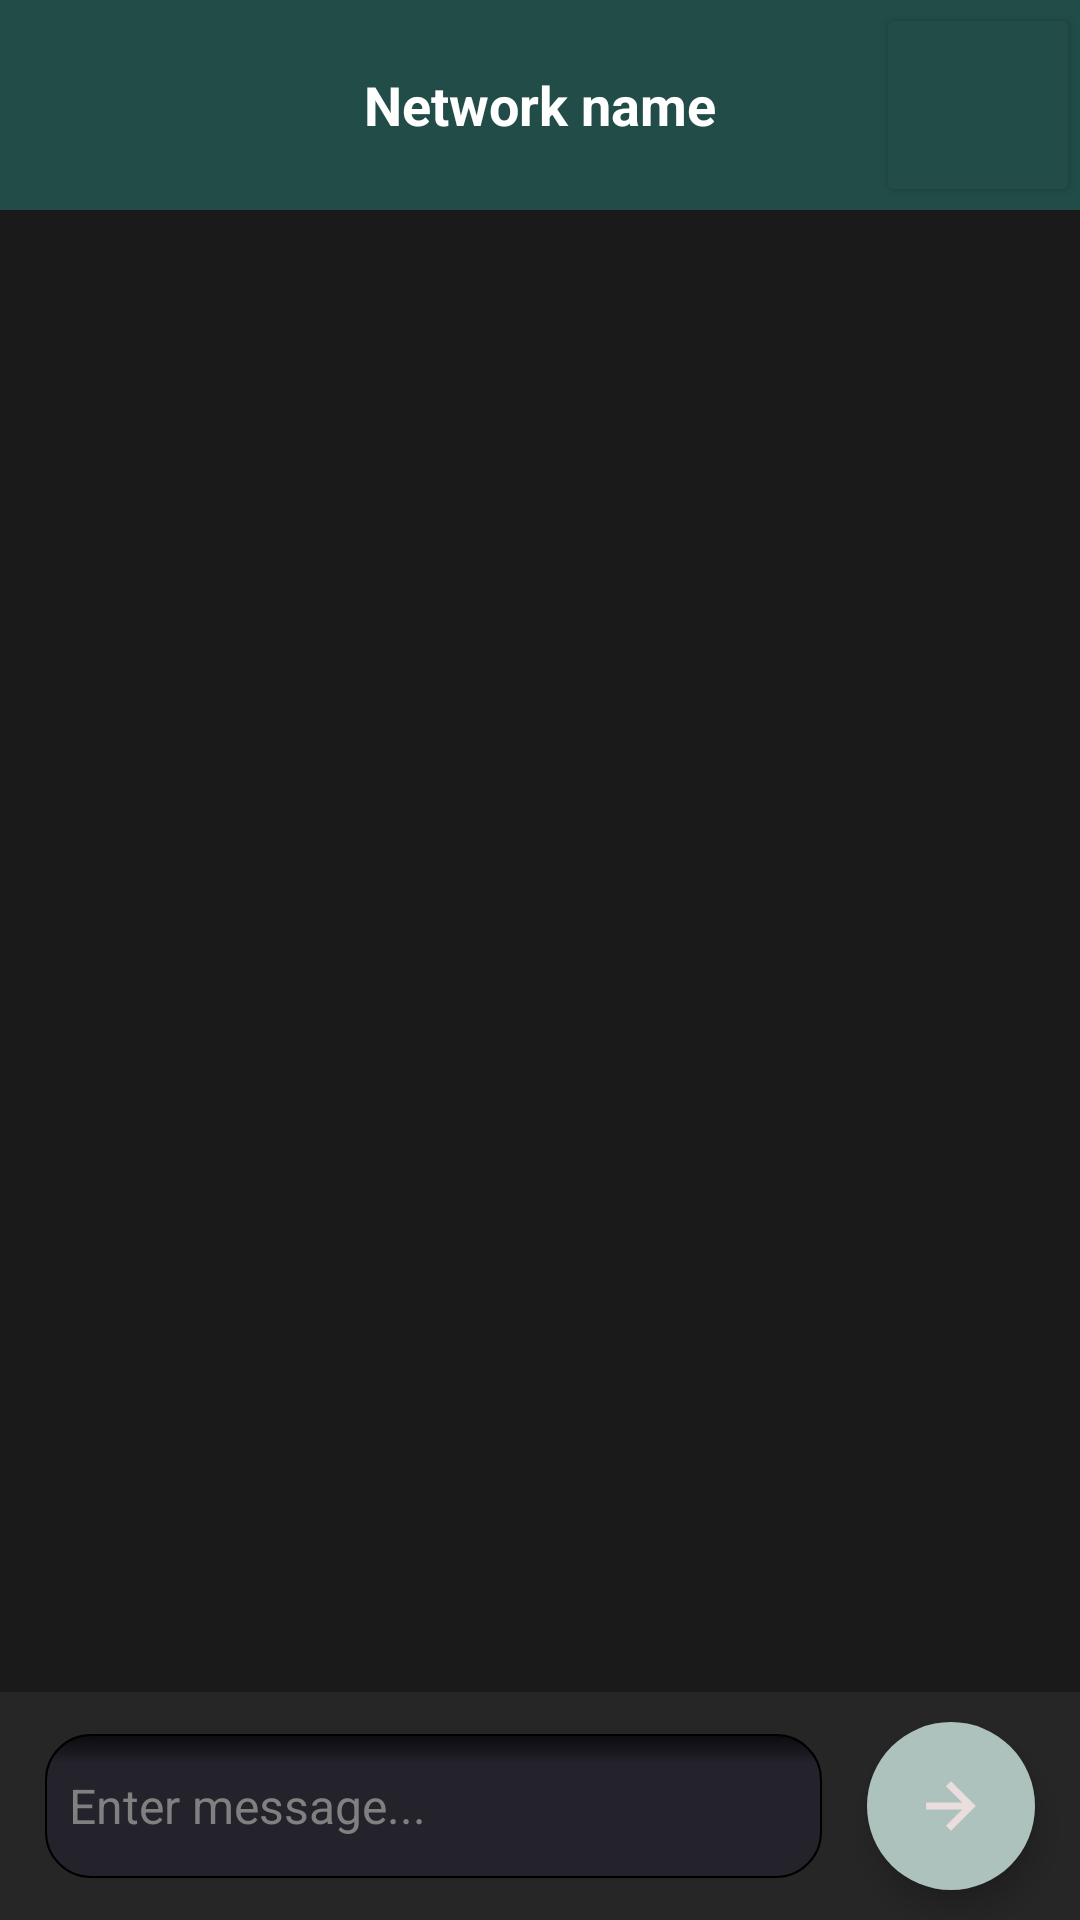

Point at icon controls on the screen. Image size 1080px x 1920px, points as [x,y].
arrow forward: [951,1806]
